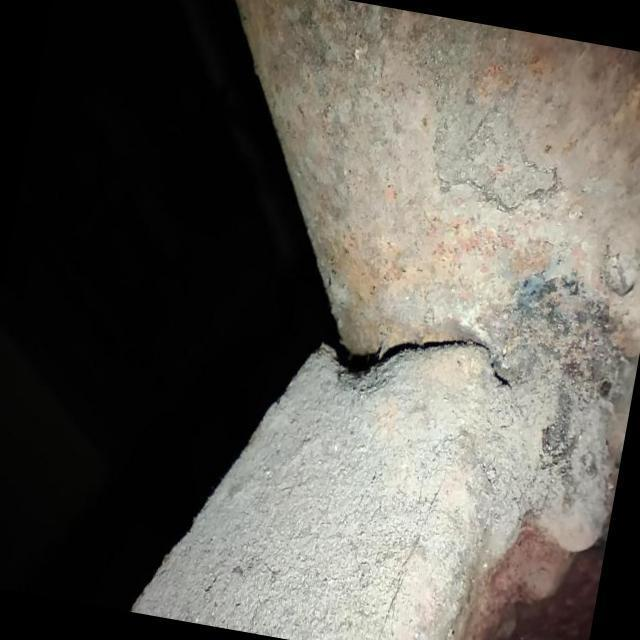defect: (323, 335, 519, 394)
